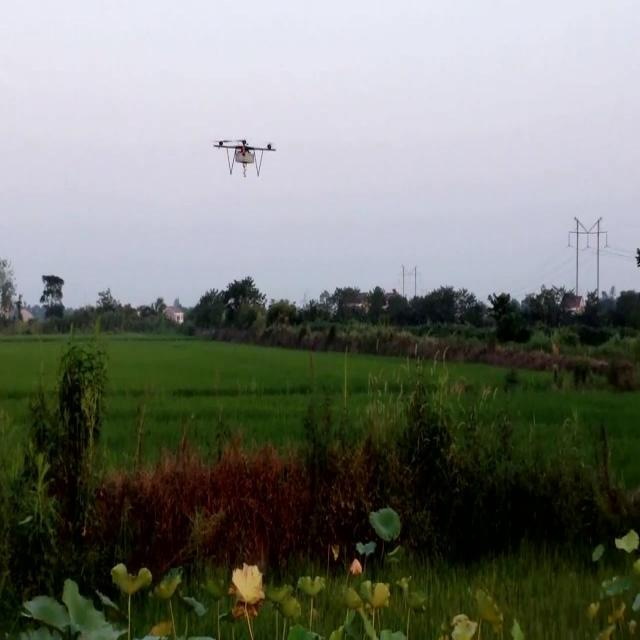UAV: (213, 138, 276, 178)
